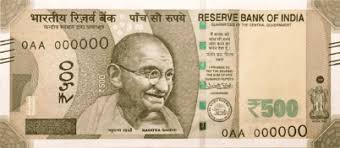fiveHundred: (17, 25, 310, 135)
